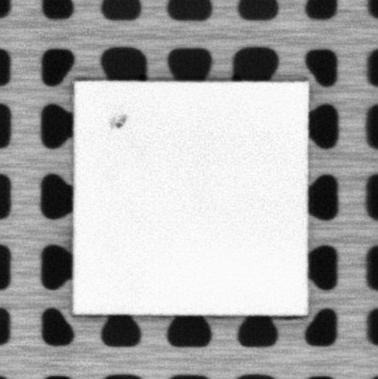DIE_INK: (111, 114, 128, 127)
